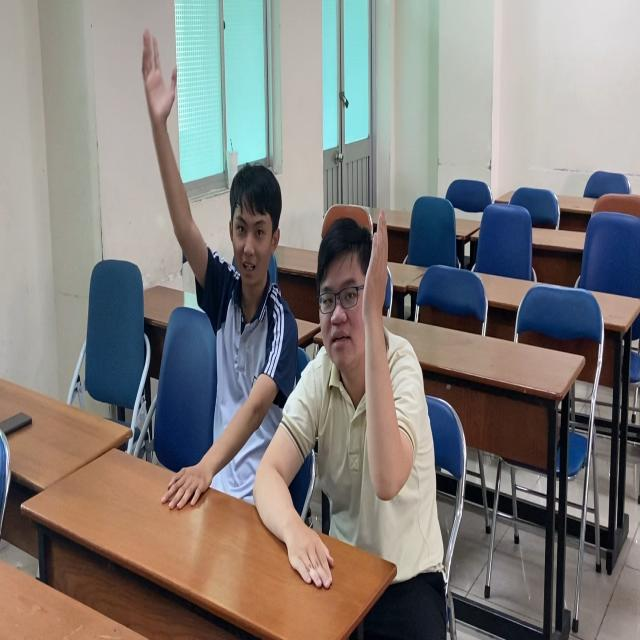raise_hand: (143, 73, 292, 531), (310, 205, 429, 563)
